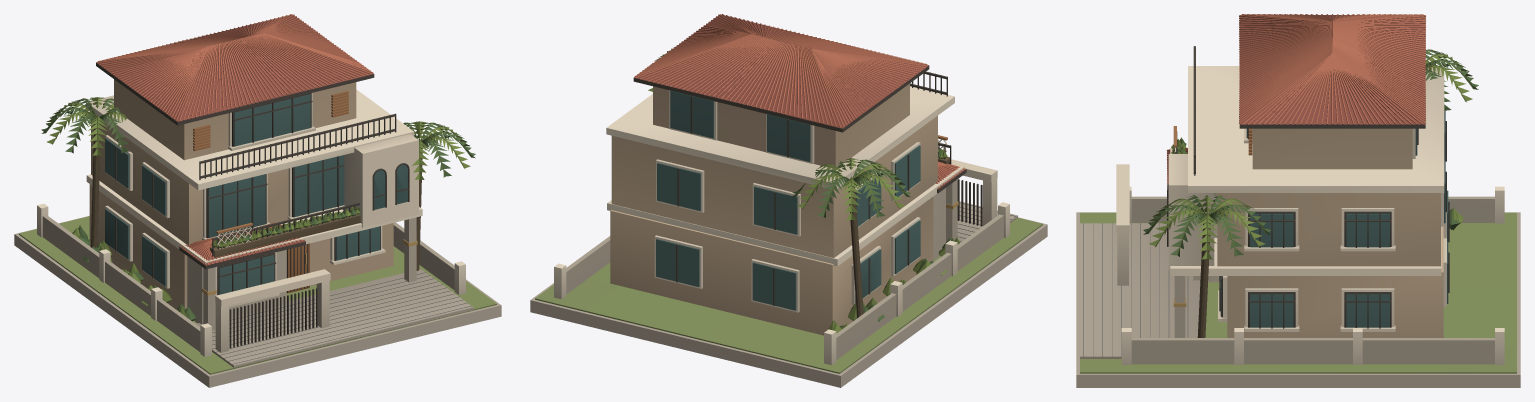
Rendered from sample-house.glb.
3 views of the same model, side by side, from view 1: azimuth 30°, elevation 25°; view 2: azimuth 150°, elevation 25°; view 3: azimuth 270°, elevation 25° (orthographic). The views are drawn at different scales.
Parts seen in each view (by area): view 1: paving, limestone, stucco, tile, glass, trim, bronze, clay, lawn, leaf, sage, basalt (+3 smaller); view 2: stucco, trim, tile, glass, lawn, clay, paving, limestone, bronze, sage, leaf, palm (+1 smaller); view 3: stucco, trim, paving, tile, limestone, lawn, clay, glass, bronze, sage, leaf, basalt (+2 smaller).
Boxes of the visible parts, bbox=[...] form: paving: bbox=[14, 216, 501, 387]; limestone: bbox=[42, 126, 454, 352]; stucco: bbox=[89, 79, 393, 309]; tile: bbox=[97, 14, 373, 265]; glass: bbox=[105, 94, 407, 294]; trim: bbox=[37, 89, 465, 356]; bronze: bbox=[96, 62, 409, 348]; clay: bbox=[96, 14, 373, 265]; lawn: bbox=[19, 216, 496, 374]; leaf: bbox=[41, 98, 475, 321]; sage: bbox=[46, 97, 470, 310]; basalt: bbox=[212, 272, 471, 364]; stucco: bbox=[610, 83, 937, 335]; trim: bbox=[554, 86, 1009, 365]; tile: bbox=[634, 14, 965, 188]; glass: bbox=[656, 90, 920, 310]; lawn: bbox=[535, 217, 1042, 373]; clay: bbox=[634, 14, 965, 189]; paving: bbox=[530, 201, 1047, 387]; limestone: bbox=[566, 139, 1003, 359]; bronze: bbox=[633, 65, 982, 305]; sage: bbox=[648, 48, 958, 333]; leaf: bbox=[656, 47, 954, 329]; palm: bbox=[796, 148, 960, 328]; stucco: bbox=[1217, 128, 1443, 337]; trim: bbox=[1121, 66, 1504, 364]; paving: bbox=[1076, 212, 1520, 387]; tile: bbox=[1166, 14, 1425, 188]; limestone: bbox=[1116, 128, 1494, 364]; lawn: bbox=[1080, 212, 1516, 373]; clay: bbox=[1167, 15, 1425, 182]; glass: bbox=[1220, 110, 1448, 327]; bronze: bbox=[1167, 46, 1449, 328]; sage: bbox=[1149, 53, 1472, 259]; leaf: bbox=[1143, 49, 1478, 256]; basalt: bbox=[1083, 223, 1188, 356].
Bounding box in the file's own units: 14.63 × 9.87 × 15.
